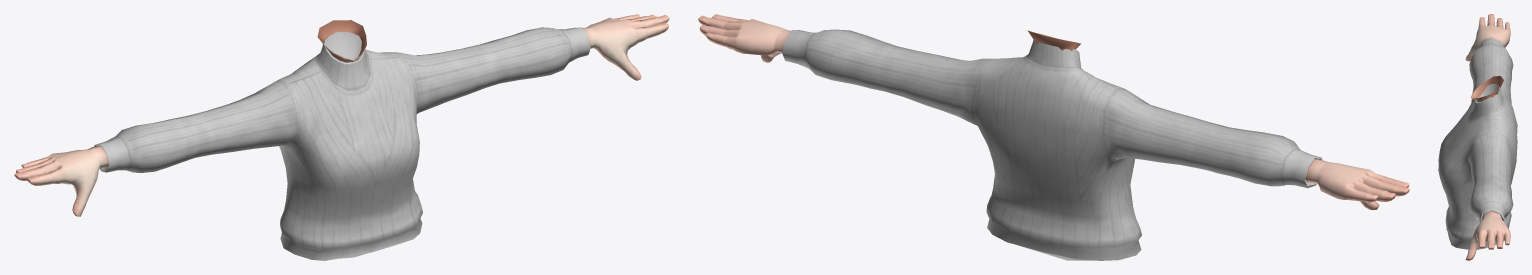
Rendered from tr0870_00_upb02.gltf.
3 renders of one model, left to right at view 1: azimuth 30°, elevation 25°; view 2: azimuth 150°, elevation 25°; view 3: azimuth 270°, elevation 25°, orthographic. The views are drawn at different scales.
Parts seen in each view (by area): view 1: upb02_sweater_mesh_shape:upperbody02, upb02_skin_mesh_shape:upperbody02_skin; view 2: upb02_sweater_mesh_shape:upperbody02, upb02_skin_mesh_shape:upperbody02_skin; view 3: upb02_sweater_mesh_shape:upperbody02, upb02_skin_mesh_shape:upperbody02_skin.
Boxes of the visible parts, x1,y1,x2,y2 form: upb02_sweater_mesh_shape:upperbody02: [94, 27, 590, 260]; upb02_skin_mesh_shape:upperbody02_skin: [14, 14, 669, 216]; upb02_sweater_mesh_shape:upperbody02: [782, 29, 1322, 260]; upb02_skin_mesh_shape:upperbody02_skin: [698, 14, 1409, 210]; upb02_sweater_mesh_shape:upperbody02: [1438, 38, 1517, 249]; upb02_skin_mesh_shape:upperbody02_skin: [1465, 14, 1510, 260].
Size of what is drawn, in the model's own units: 1.63 by 0.5301 by 0.234.
Materials: 2 (2 with a texture image).
